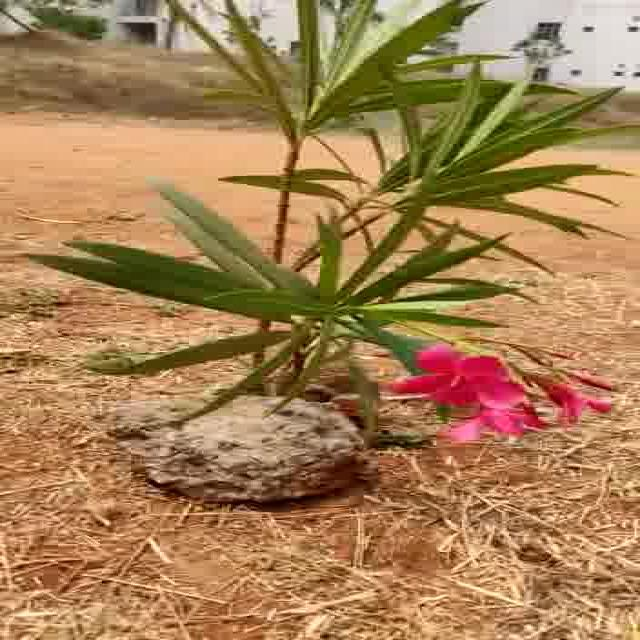Oleander: (125, 16, 640, 411)
